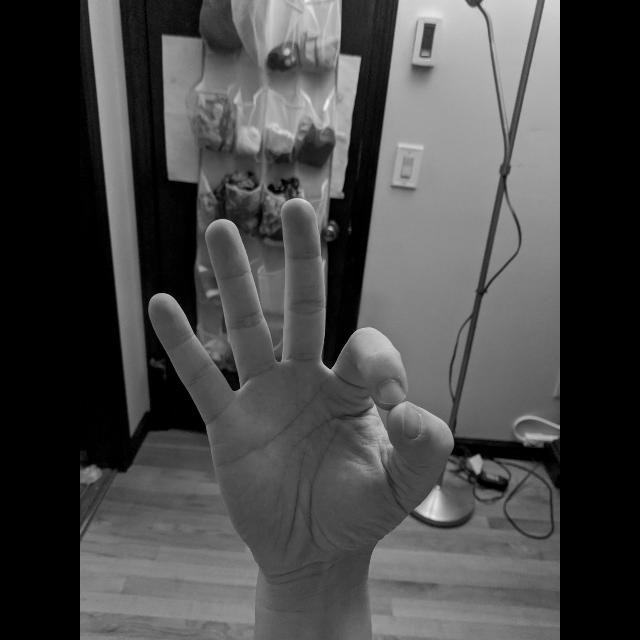F: (143, 195, 461, 588)
